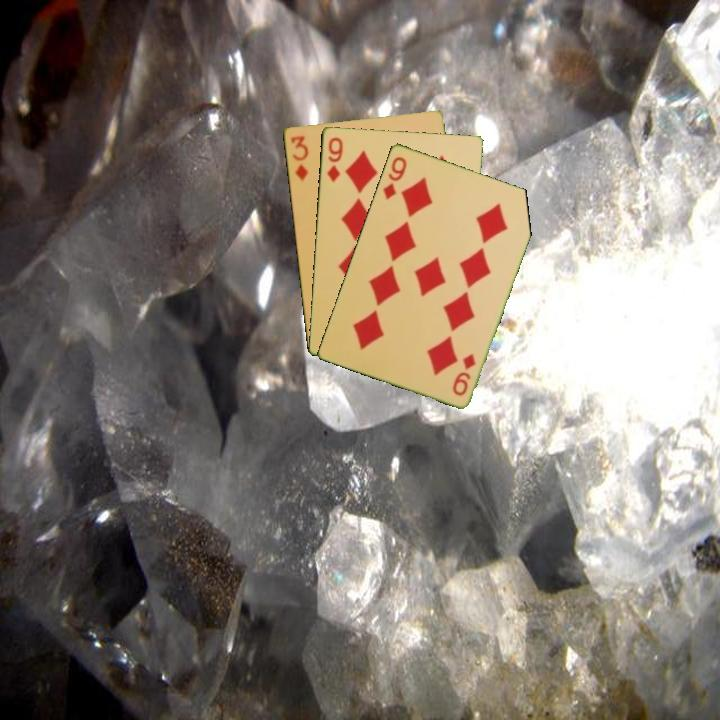3d: (287, 132, 311, 183)
9d: (379, 153, 409, 202), (449, 350, 479, 398), (323, 133, 345, 184)
